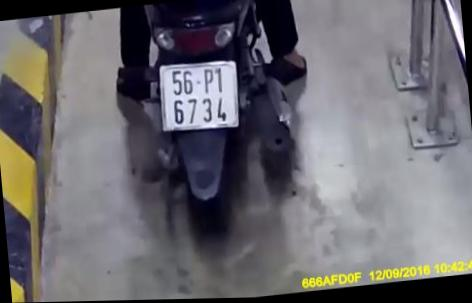LP: (153, 54, 246, 137)
